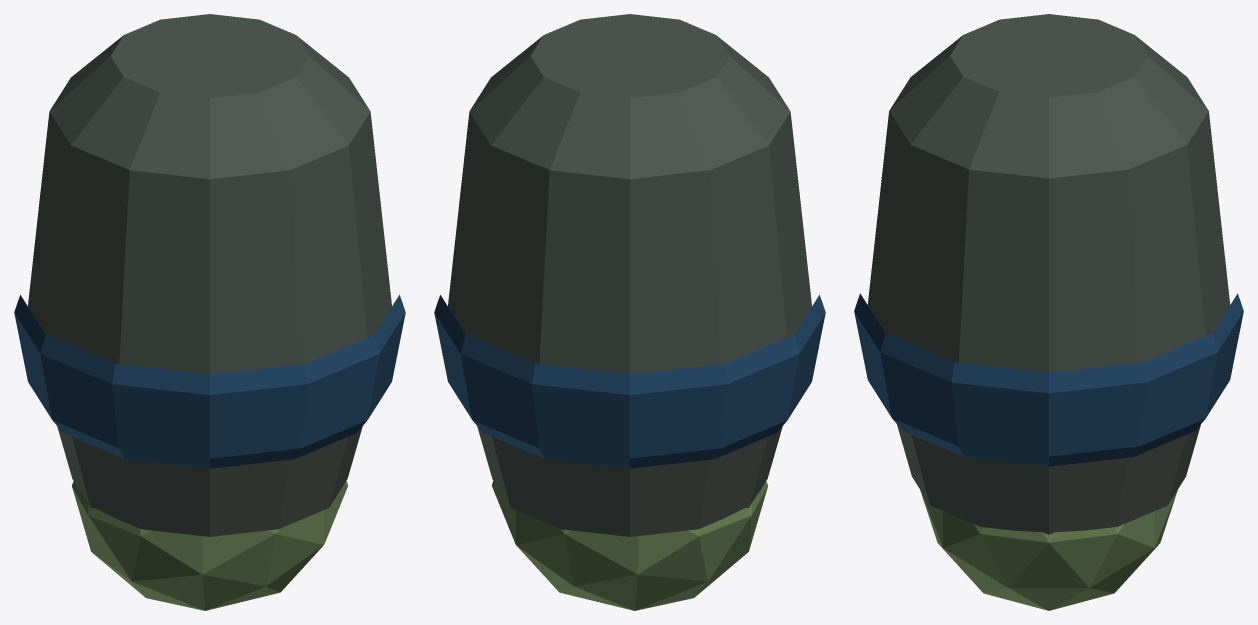
Rendered from ArmLeft.glb.
3 views of the same model, side by side, from view 1: azimuth 30°, elevation 25°; view 2: azimuth 150°, elevation 25°; view 3: azimuth 270°, elevation 25° (orthographic).
Parts seen in each view (by area): view 1: Sculpture; view 2: Sculpture; view 3: Sculpture.
Part boxes in pixels (<box>): Sculpture: <box>14,14,405,610</box>; Sculpture: <box>434,14,825,610</box>; Sculpture: <box>854,14,1243,610</box>.
Bounding box in the file's own units: 0.256 × 0.392 × 0.256.
